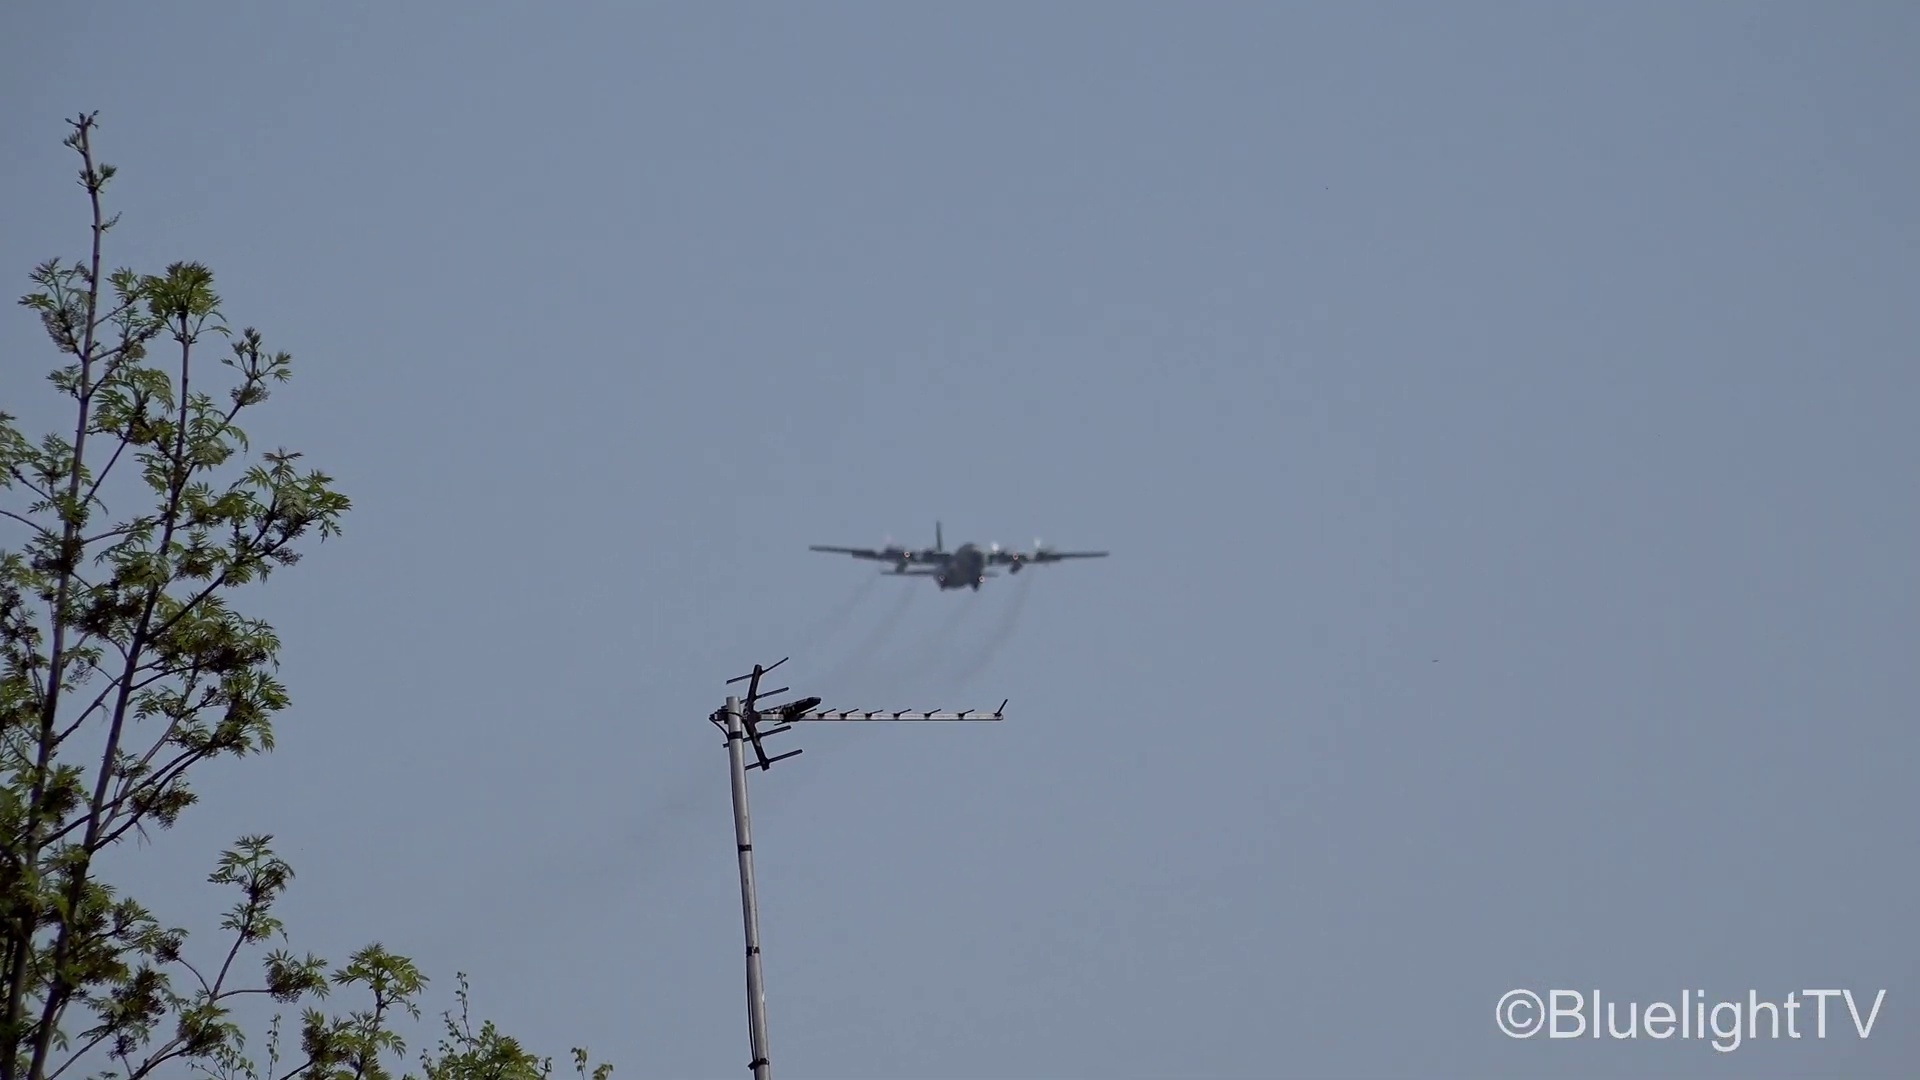Airplane: (804, 520, 1114, 593)
